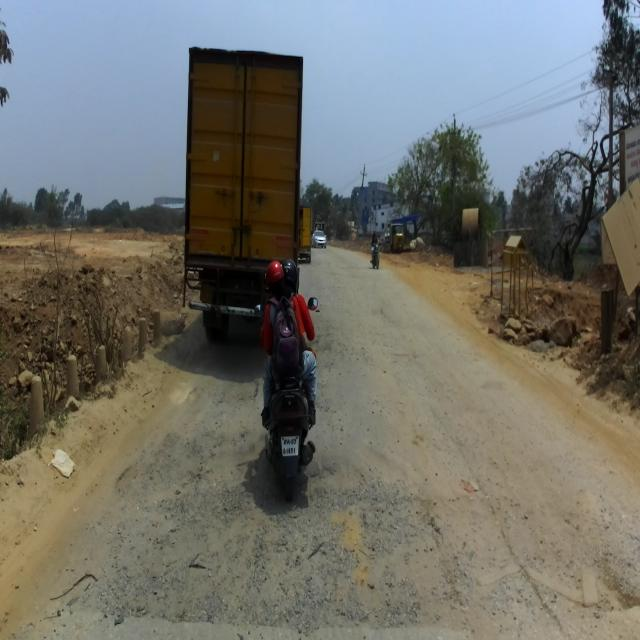motorcycle ahead at: (258, 377, 325, 493)
truck ahead at: (185, 40, 299, 347)
